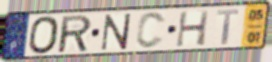C: (134, 11, 168, 50)
H: (175, 9, 211, 48)
N: (99, 12, 134, 52)
O: (28, 14, 62, 55)
R: (58, 14, 93, 55)
T: (216, 8, 242, 46)
